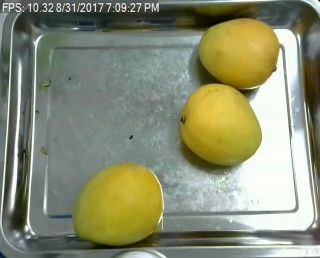Mango: (76, 163, 162, 244), (179, 82, 262, 165), (199, 17, 278, 86)
